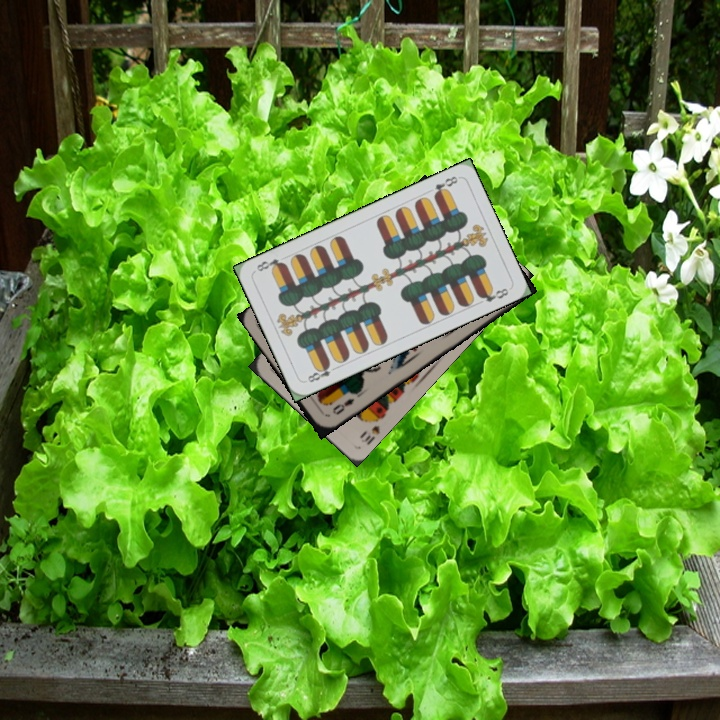E8: (303, 359, 340, 385), (430, 172, 460, 200)
EO: (328, 394, 357, 417)
S10: (356, 412, 385, 447)
